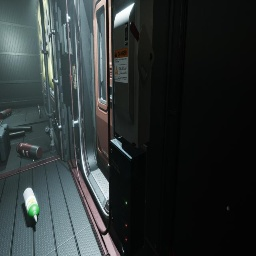0: (23, 188, 39, 222)
EmergencyPhone ,: (71, 60, 77, 89)
FireAlarm ,: (69, 67, 73, 85)
NitrogenTank ,: (16, 142, 43, 159), (0, 108, 12, 119)
SafetySwitchPanel ,: (113, 0, 154, 148)
